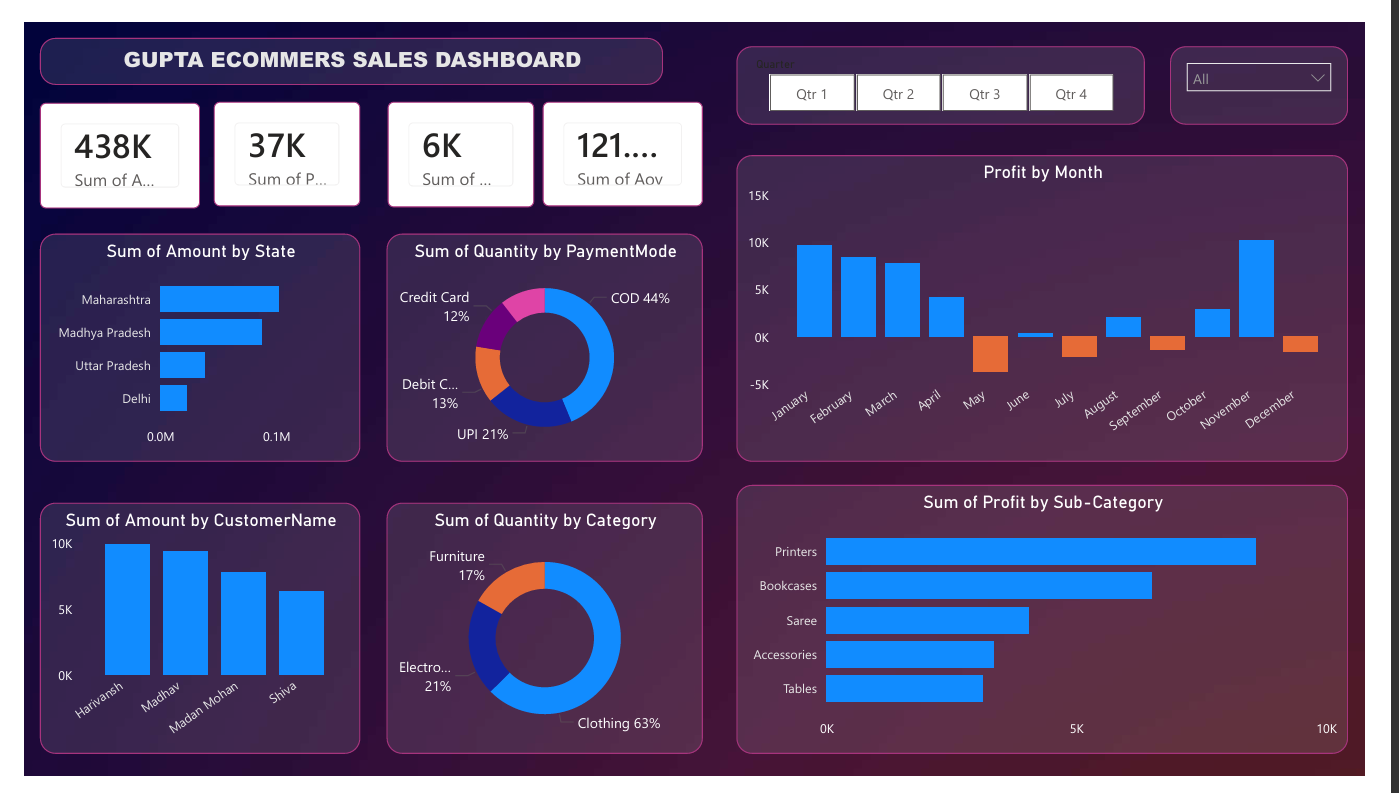

Layout of this report page (visuals, bound fields, positions):
{"tool":"powerbi","page":{"name":"Page 1","canvas":[1280,720],"ordinal":0},"visuals":[{"type":"columnChart","title":"Profit by Month","fields":{"Category":["Orders.Order Date.Variation.Date Hierarchy.Month"],"Y":["Sum(Details.Profit)"]},"box":[680.3,126.6,583.9,292.9],"z":0},{"type":"barChart","fields":{"Category":["Details.Sub-Category"],"Y":["Sum(Details.Profit)"]},"box":[680.3,442.2,583.9,257],"z":1000},{"type":"donutChart","fields":{"Category":["Details.Category"],"Y":["Sum(Details.Quantity)"]},"box":[345.8,459.2,302.4,240],"z":2000},{"type":"donutChart","fields":{"Y":["Sum(Details.Quantity)"],"Category":["Details.PaymentMode"]},"box":[345.8,202.2,302.4,217.3],"z":3000},{"type":"cardVisual","fields":{"Data":["Sum(Details.Amount)"]},"box":[15.1,77.5,153.1,100.2],"z":4000},{"type":"cardVisual","fields":{"Data":["Sum(Details.Profit)"]},"box":[181.4,75.6,139.8,100.2],"z":5000},{"type":"cardVisual","fields":{"Data":["Sum(Details.Quantity)"]},"box":[346.8,76.3,140,100.2],"z":6000},{"type":"cardVisual","fields":{"Data":["Sum(Details.Aov)"]},"box":[495.1,75.6,153.1,100.2],"z":7000},{"type":"barChart","fields":{"Category":["Orders.State"],"Y":["Sum(Details.Amount)"]},"box":[15.1,202.2,306.1,217.3],"z":8000},{"type":"columnChart","fields":{"Category":["Orders.CustomerName"],"Y":["Sum(Details.Amount)"]},"box":[15.1,459.2,306.1,240],"z":9000},{"type":"slicer","fields":{"Values":["Orders.Order Date.Variation.Date Hierarchy.Quarter"]},"box":[680.3,22.7,389.3,75.6],"z":10000},{"type":"slicer","fields":{"Values":["Orders.State"]},"box":[1094.2,22.7,170.1,75.6],"z":11000},{"type":"textbox","title":"GUPTA ECOMMERS SALES DASHBOARD","box":[15.1,15.1,595.3,45.4],"z":12000}]}

Visuals, with their boxes in screenshot pixels (x1, y1, x2, y2), scaled from the page's 1280x720 canvas onto the 1399x793 screenshot:
"Profit by Month" columnChart: {"left": 744, "top": 139, "right": 1382, "bottom": 462}
barChart - Details.Sub-Category x Sum(Details.Profit): {"left": 744, "top": 487, "right": 1382, "bottom": 770}
donutChart - Details.Category x Sum(Details.Quantity): {"left": 378, "top": 506, "right": 708, "bottom": 770}
donutChart - Sum(Details.Quantity) x Details.PaymentMode: {"left": 378, "top": 223, "right": 708, "bottom": 462}
cardVisual - Sum(Details.Amount): {"left": 17, "top": 85, "right": 184, "bottom": 196}
cardVisual - Sum(Details.Profit): {"left": 198, "top": 83, "right": 351, "bottom": 194}
cardVisual - Sum(Details.Quantity): {"left": 379, "top": 84, "right": 532, "bottom": 194}
cardVisual - Sum(Details.Aov): {"left": 541, "top": 83, "right": 708, "bottom": 194}
barChart - Orders.State x Sum(Details.Amount): {"left": 17, "top": 223, "right": 351, "bottom": 462}
columnChart - Orders.CustomerName x Sum(Details.Amount): {"left": 17, "top": 506, "right": 351, "bottom": 770}
slicer - Orders.Order Date.Variation.Date Hierarchy.Quarter: {"left": 744, "top": 25, "right": 1169, "bottom": 108}
slicer - Orders.State: {"left": 1196, "top": 25, "right": 1382, "bottom": 108}
"GUPTA ECOMMERS SALES DASHBOARD" textbox: {"left": 17, "top": 17, "right": 667, "bottom": 67}
